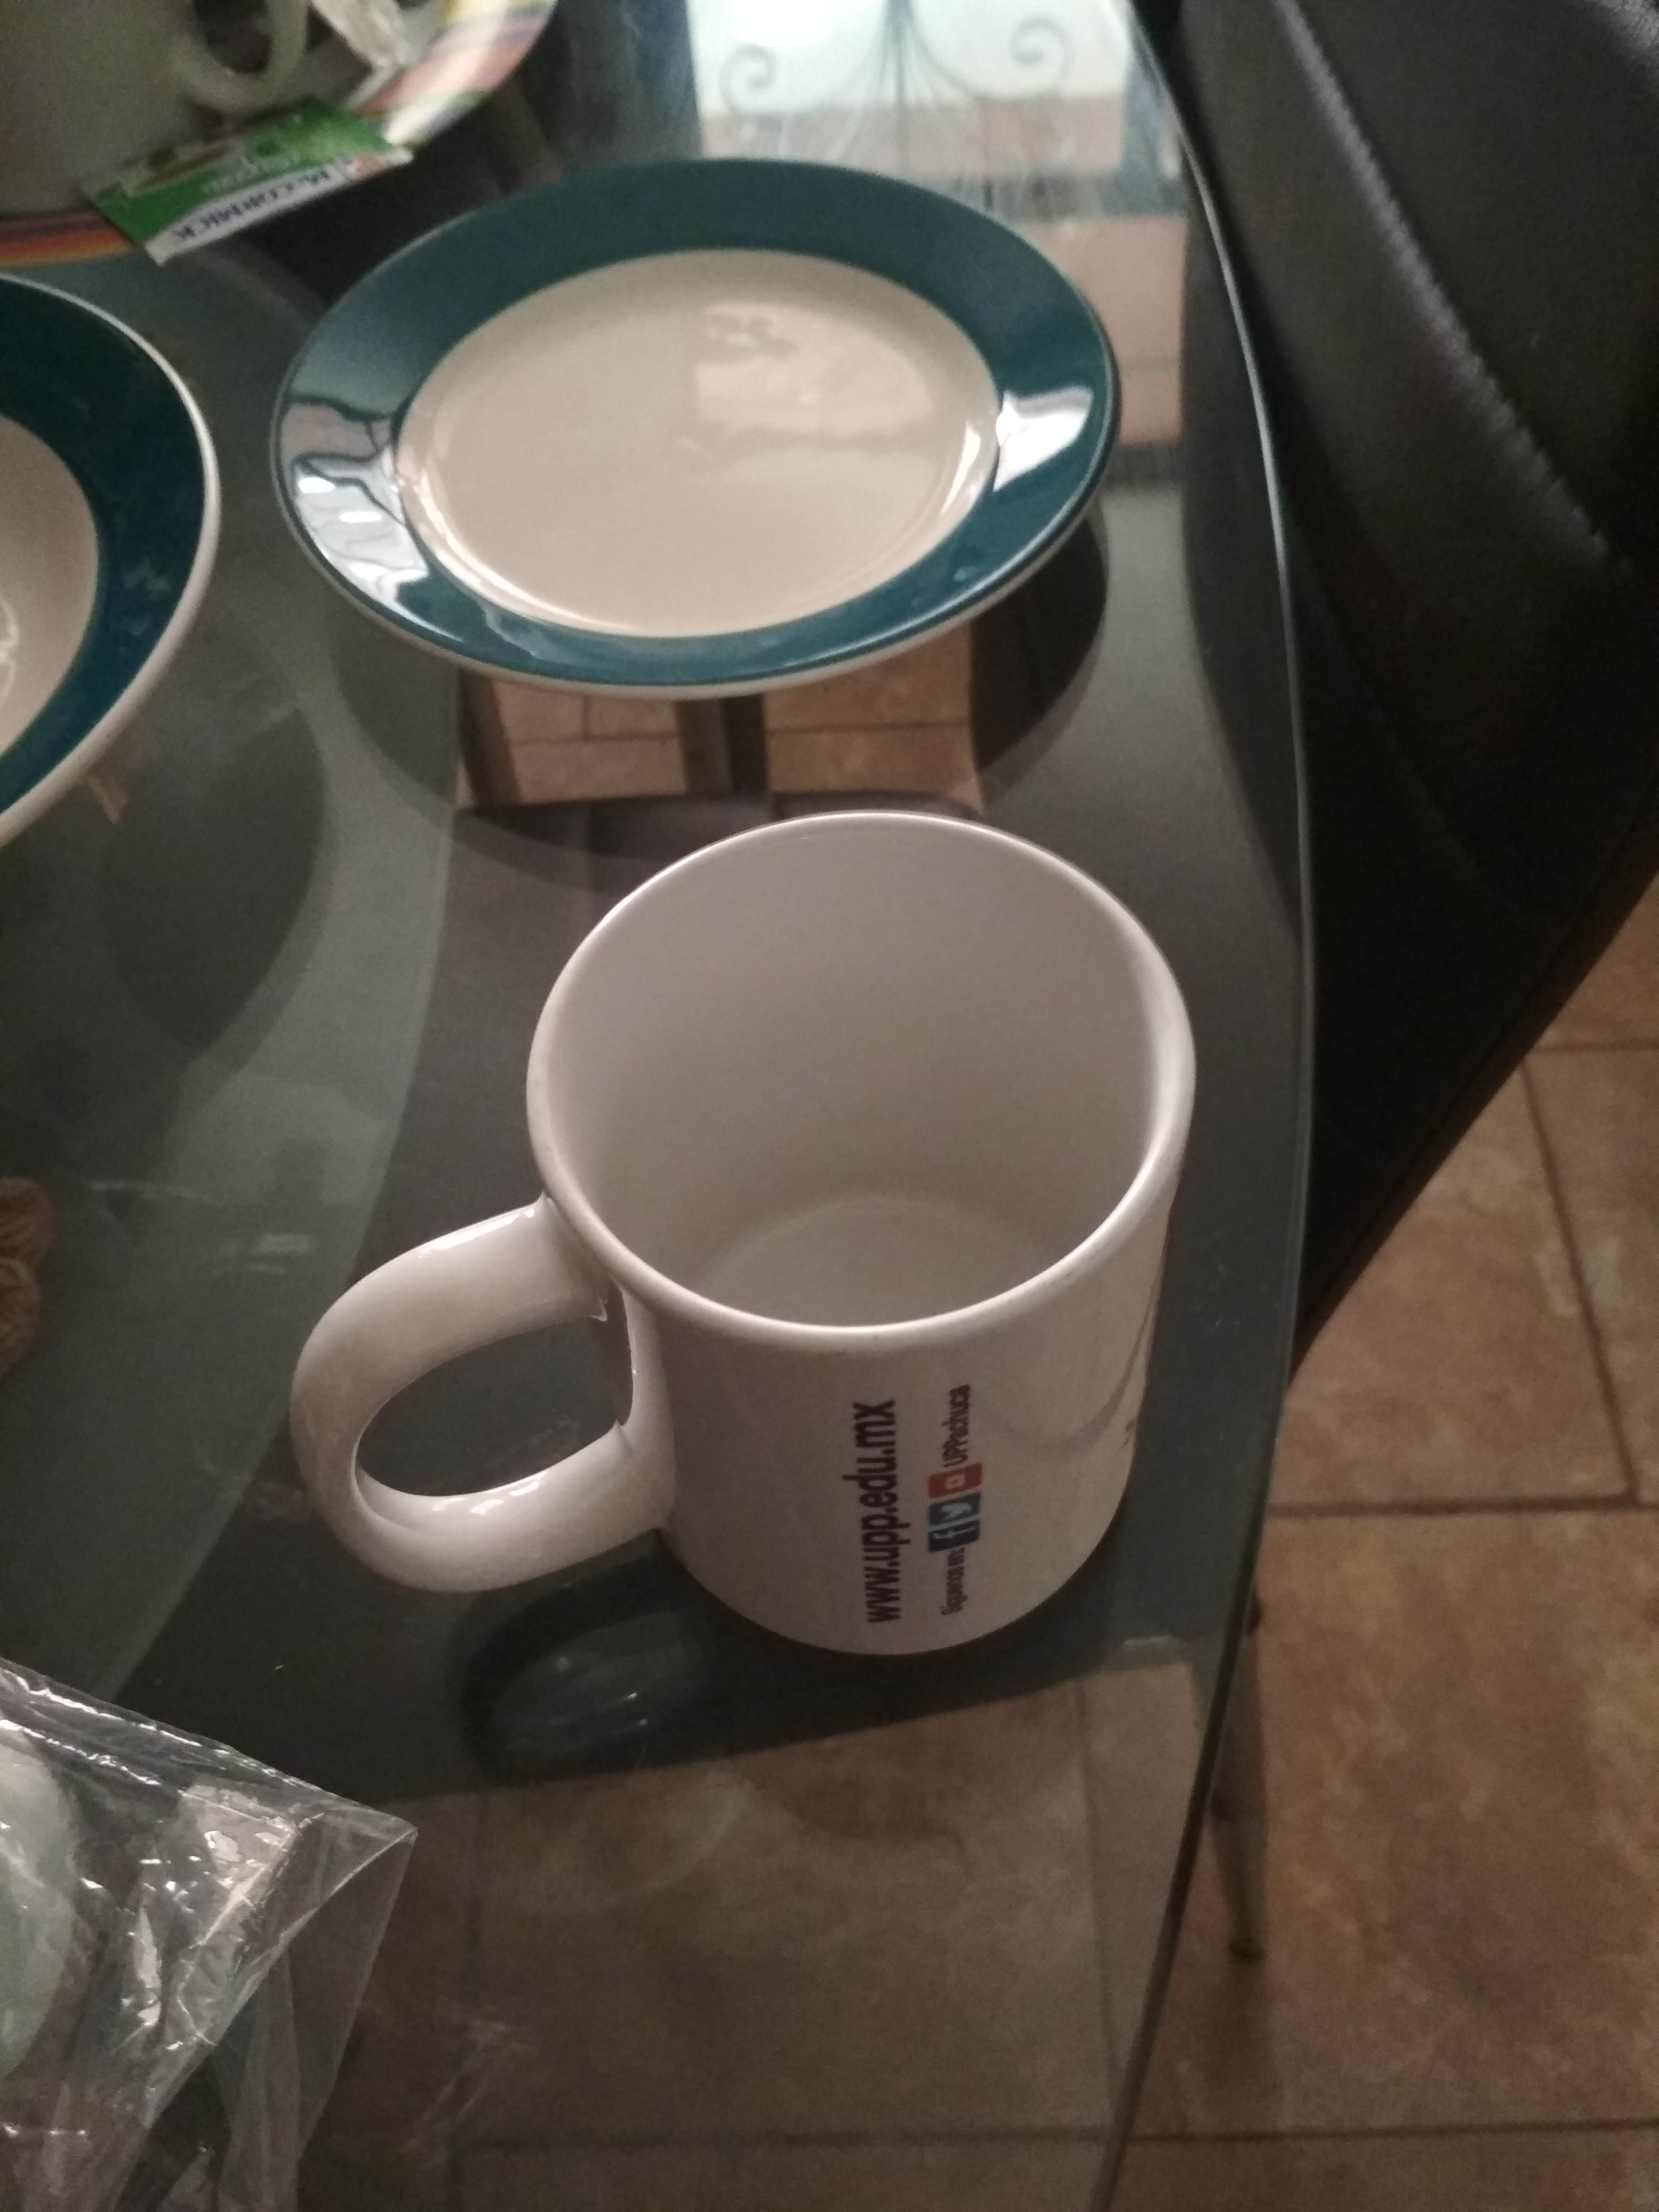cup: (261, 787, 1225, 1691)
